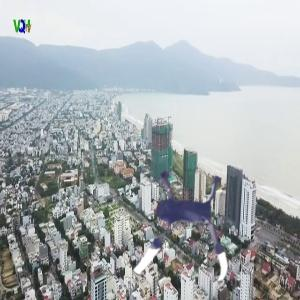drone: (109, 153, 254, 298)
